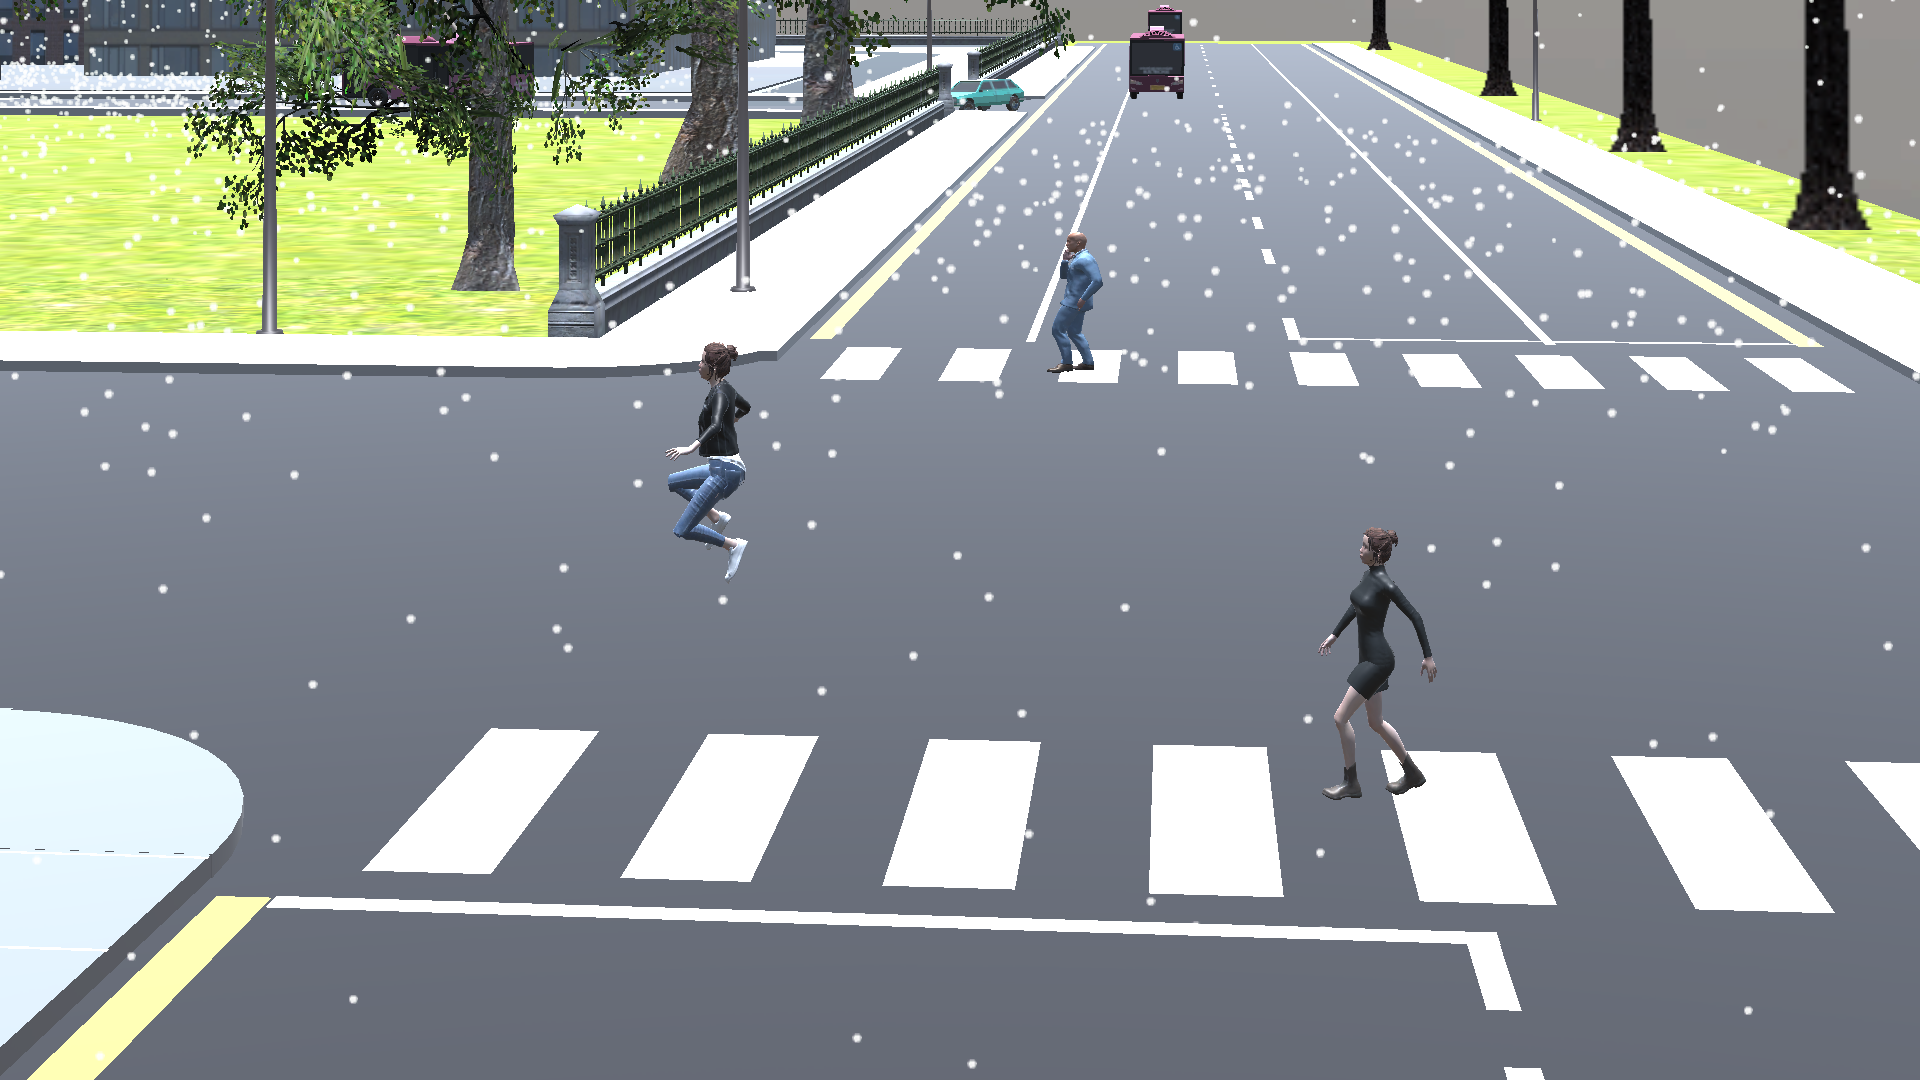pedestrian: (1321, 516, 1439, 807), (653, 335, 762, 592), (1044, 225, 1114, 388)
